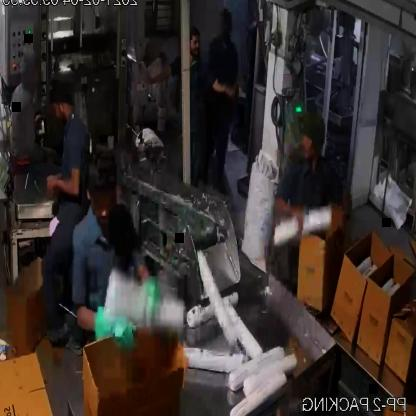glove: (72, 299, 138, 356)
no_glove: (40, 149, 86, 200), (270, 190, 320, 232), (138, 65, 178, 95), (198, 75, 235, 107)
